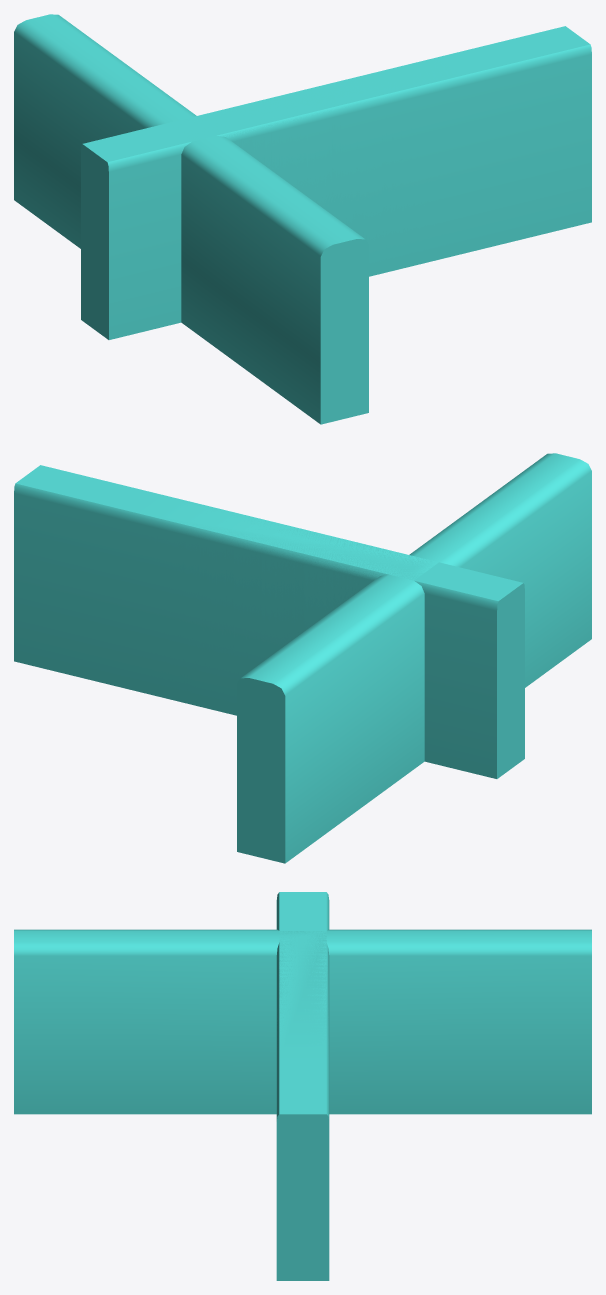
File: fence0x2.fbx
3 renders of one model, top to bottom at view 1: azimuth 30°, elevation 25°; view 2: azimuth 150°, elevation 25°; view 3: azimuth 270°, elevation 25°, orthographic. The views are drawn at different scales.
Visible parts, largest first — view 1: Cube, Cube.001, Cube.002; view 2: Cube, Cube.002, Cube.001; view 3: Cube.001, Cube.002, Cube.
Boxes of the visible parts, x1,y1,x2,y2 form: Cube: [81, 26, 591, 339]; Cube.001: [173, 56, 471, 424]; Cube.002: [14, 14, 470, 275]; Cube: [14, 465, 524, 778]; Cube.002: [135, 495, 437, 863]; Cube.001: [134, 453, 591, 714]; Cube.001: [14, 929, 329, 1114]; Cube.002: [277, 929, 591, 1114]; Cube: [276, 892, 329, 1280].
Size of the model in its own units: 2 by 0.7 by 2.2.
